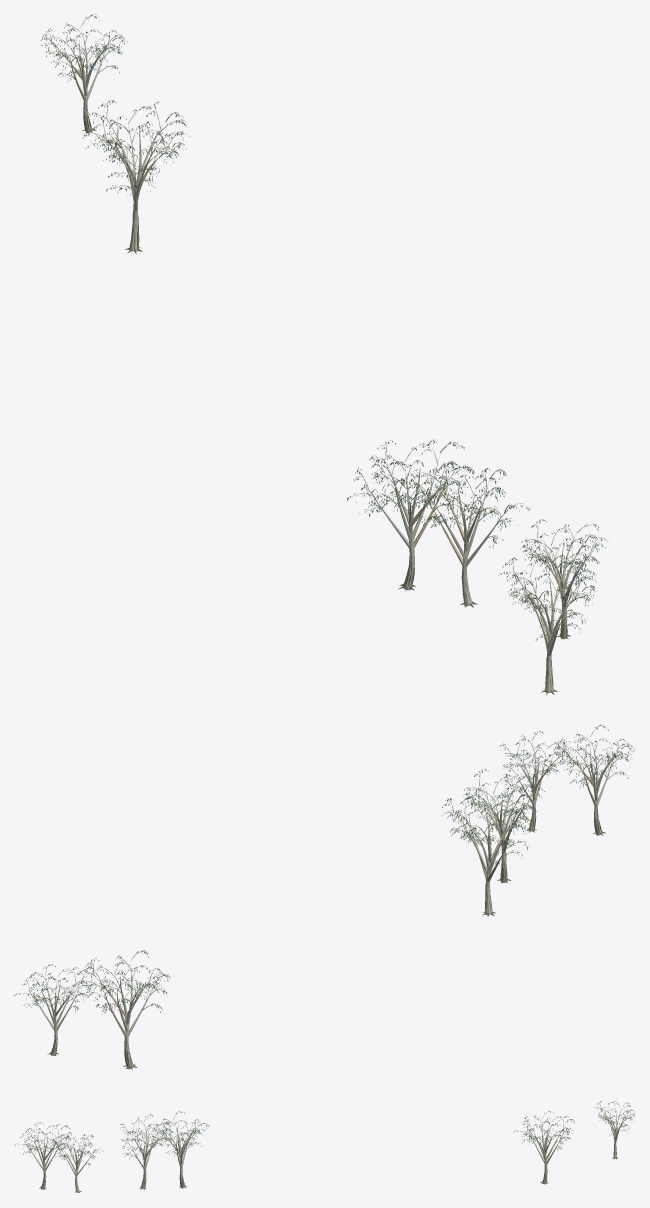
Rendered from ecology-eucalyptus-mid-13.glb.
3 renders of one model, top to bottom at view 1: azimuth 30°, elevation 25°; view 2: azimuth 150°, elevation 25°; view 3: azimuth 270°, elevation 25°, orthographic. The views are drawn at different scales.
Parts seen in each view (by area): view 1: eucalyptus-mid-114, eucalyptus-mid-115, eucalyptus-mid-119, eucalyptus-mid-117, eucalyptus-mid-116, eucalyptus-mid-118; view 2: eucalyptus-mid-114, eucalyptus-mid-119, eucalyptus-mid-115, eucalyptus-mid-117, eucalyptus-mid-118, eucalyptus-mid-116; view 3: eucalyptus-mid-119, eucalyptus-mid-114, eucalyptus-mid-115, eucalyptus-mid-117, eucalyptus-mid-116, eucalyptus-mid-118.
Part boxes in pixels (x1=…): eucalyptus-mid-114: x1=347, y1=440, x2=478, y2=591; eucalyptus-mid-115: x1=406, y1=461, x2=530, y2=607; eucalyptus-mid-119: x1=82, y1=100, x2=189, y2=254; eucalyptus-mid-117: x1=498, y1=553, x2=597, y2=694; eucalyptus-mid-116: x1=520, y1=519, x2=607, y2=639; eucalyptus-mid-118: x1=40, y1=14, x2=127, y2=132; eucalyptus-mid-114: x1=442, y1=792, x2=530, y2=916; eucalyptus-mid-119: x1=77, y1=950, x2=170, y2=1069; eucalyptus-mid-115: x1=463, y1=768, x2=544, y2=882; eucalyptus-mid-117: x1=553, y1=724, x2=635, y2=835; eucalyptus-mid-118: x1=14, y1=964, x2=92, y2=1055; eucalyptus-mid-116: x1=500, y1=731, x2=571, y2=832; eucalyptus-mid-119: x1=514, y1=1111, x2=574, y2=1184; eucalyptus-mid-114: x1=151, y1=1111, x2=208, y2=1188; eucalyptus-mid-115: x1=120, y1=1114, x2=172, y2=1189; eucalyptus-mid-117: x1=14, y1=1122, x2=71, y2=1189; eucalyptus-mid-116: x1=52, y1=1132, x2=103, y2=1192; eucalyptus-mid-118: x1=595, y1=1101, x2=635, y2=1159.
Size of the model in its own units: 23 by 23.48 by 120.
